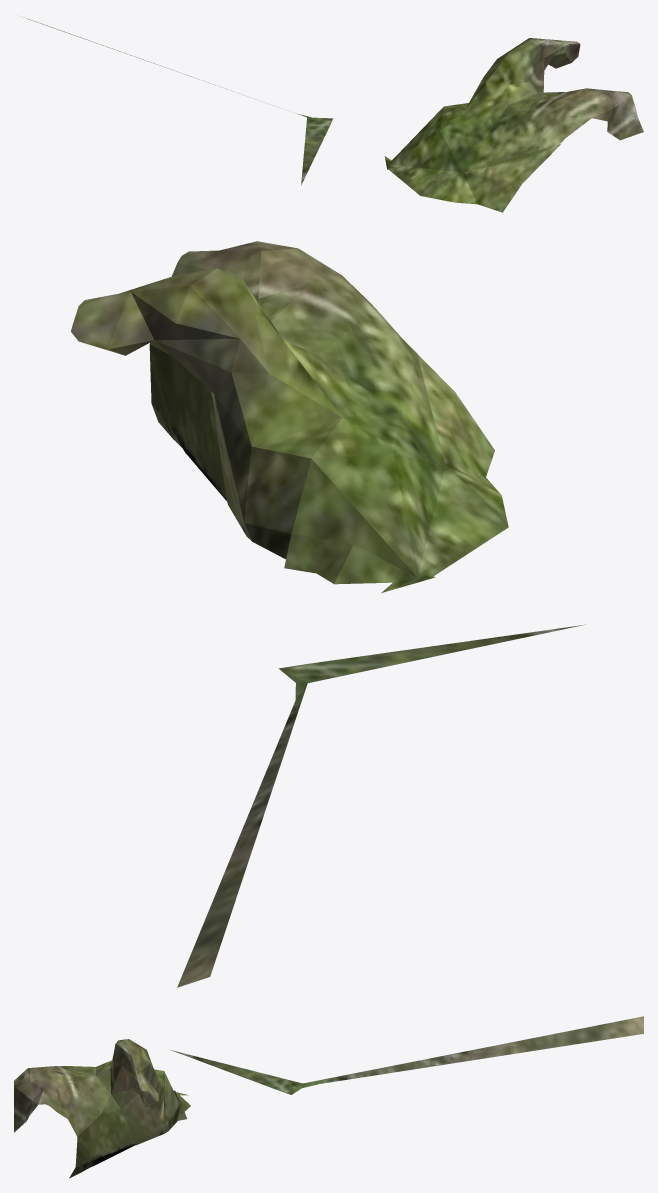
The picture shows the model from 3 angles, top to bottom: view 1: azimuth 30°, elevation 25°; view 2: azimuth 150°, elevation 25°; view 3: azimuth 270°, elevation 25°; orthographic projection. The views are drawn at different scales.
Bounding box in the file's own units: 3.39 × 1.15 × 5.9.
1 material, 1 textured.
